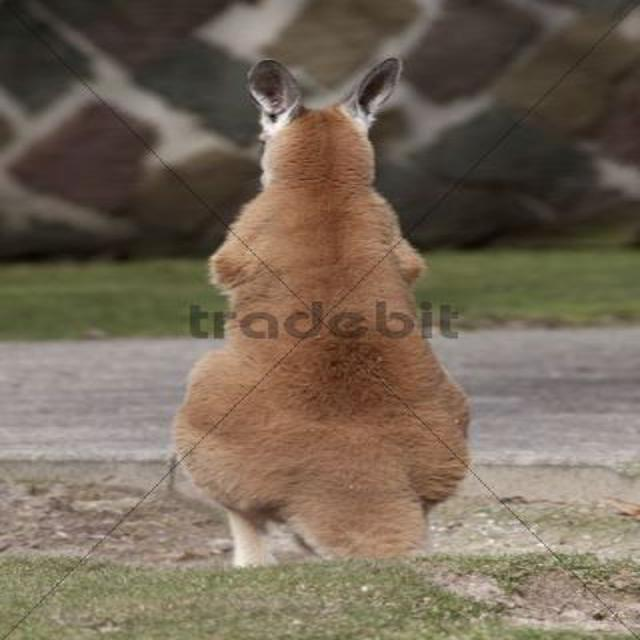kangaroo: (186, 60, 466, 554)
